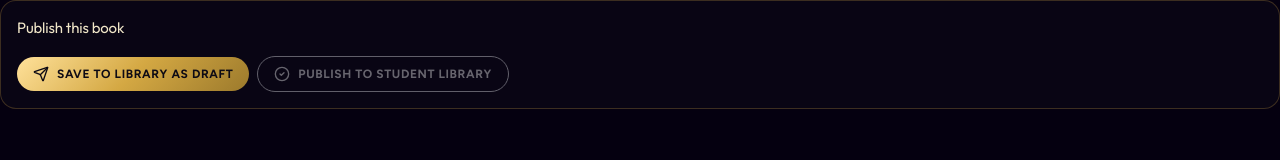
Save Draft success refreshes job state and enables Publish
Click the button with test id "bf-save-draft-btn" at {"x": 133, "y": 74}, box 17,56 -> 249,90
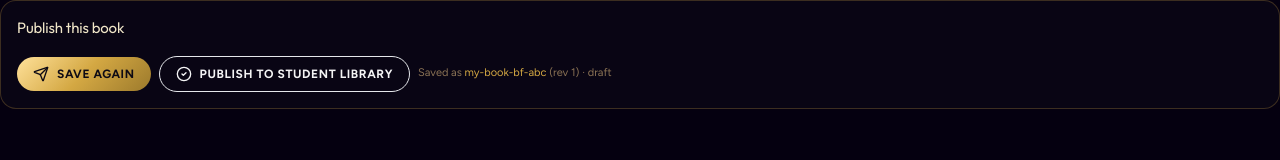
Expected: the button with test id "bf-publish-btn" is enabled, 159,56 -> 410,92
Expected: the element with test id "bf-saved-slug" shows "my-book-bf-abc", 464,66 -> 546,79
